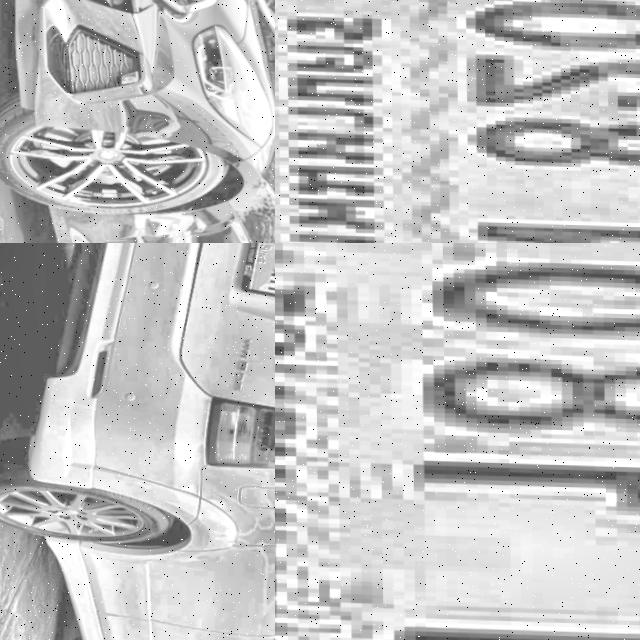license-plate: (275, 243, 640, 640), (275, 0, 640, 243), (233, 243, 275, 307)
